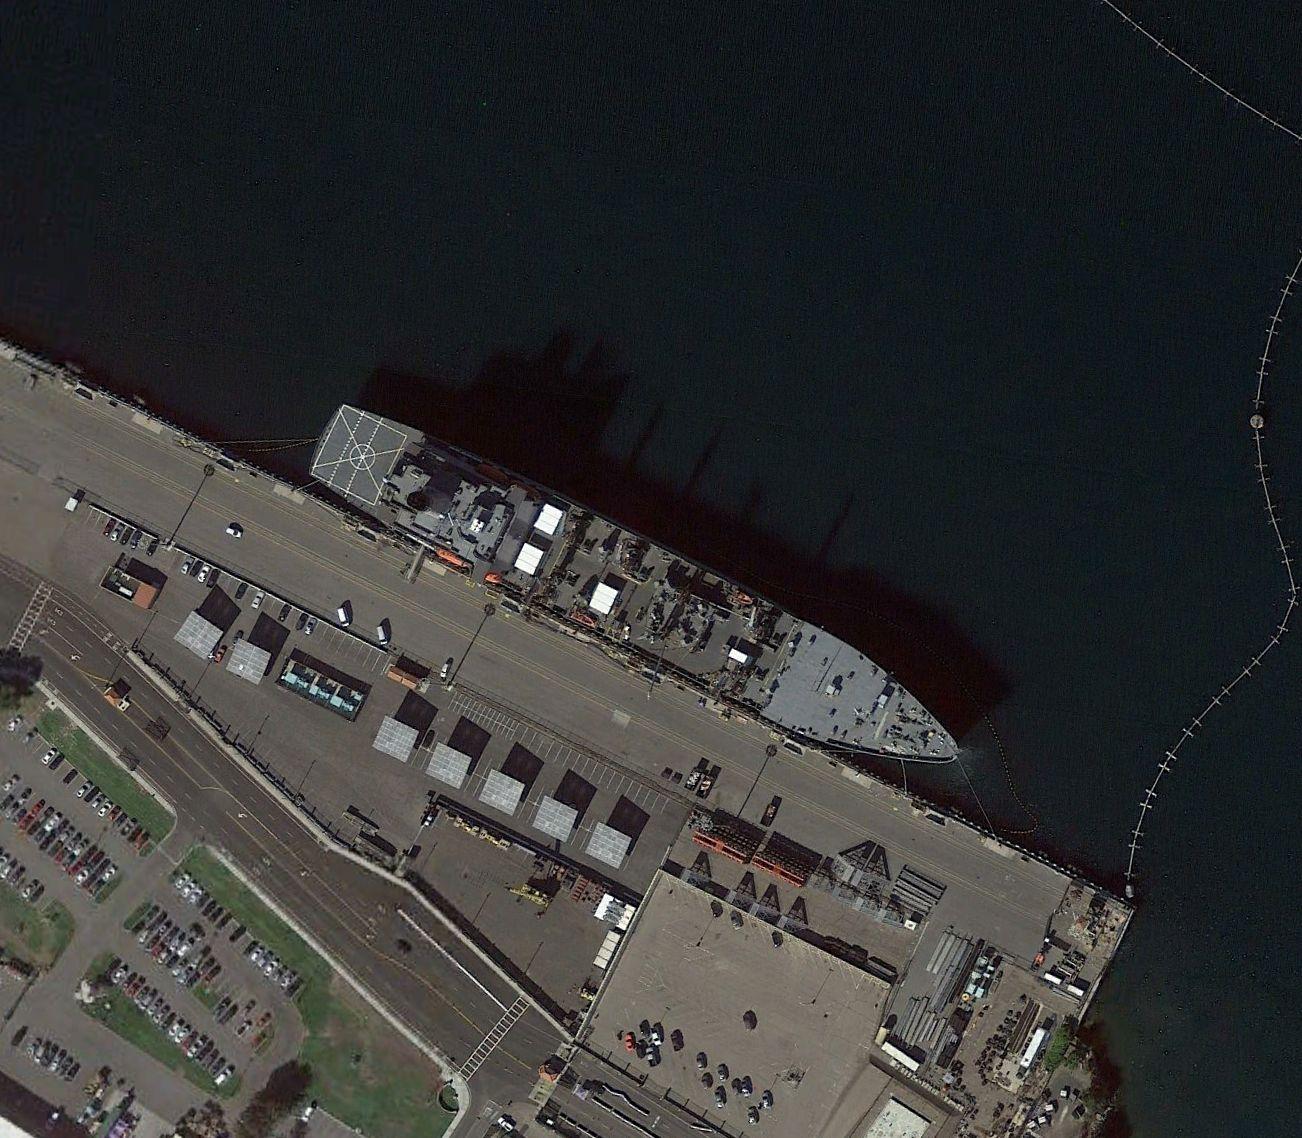boat: (307, 396, 967, 769)
